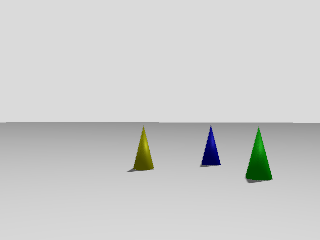blue: (200, 124, 221, 166)
green: (244, 124, 274, 181)
yellow: (133, 125, 155, 171)
